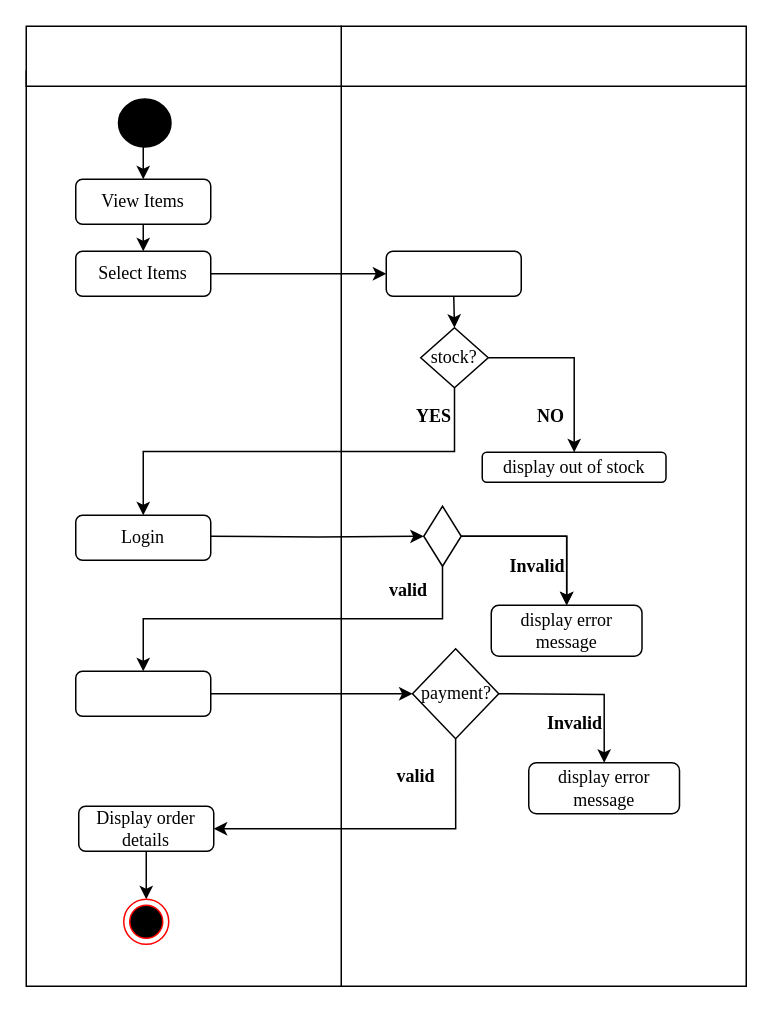
The diagram is 773 pixels wide and 1013 high, and some of its shapes have lost their labels. The shapes that lost their labels are listed below. From the top down, each one's centre as x and y in pixels, then its label:
point 183,55: Customer
point 543,55: Online Store
point 453,273: Check Stock
point 142,693: Make Purchase
